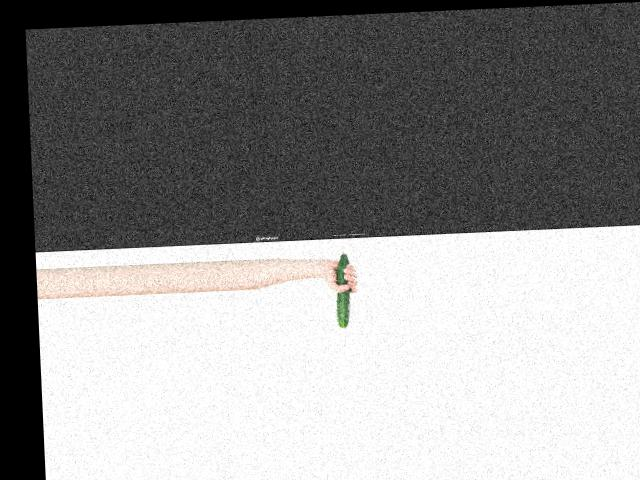cucumber: (334, 251, 352, 327)
